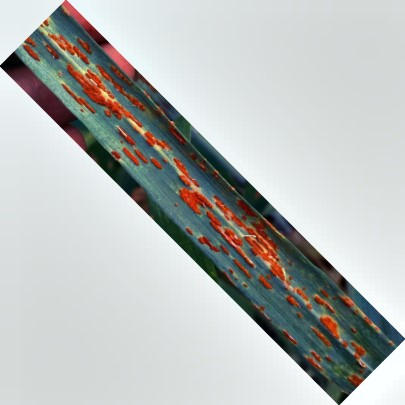Leaf Rust: (48, 38, 357, 364)
